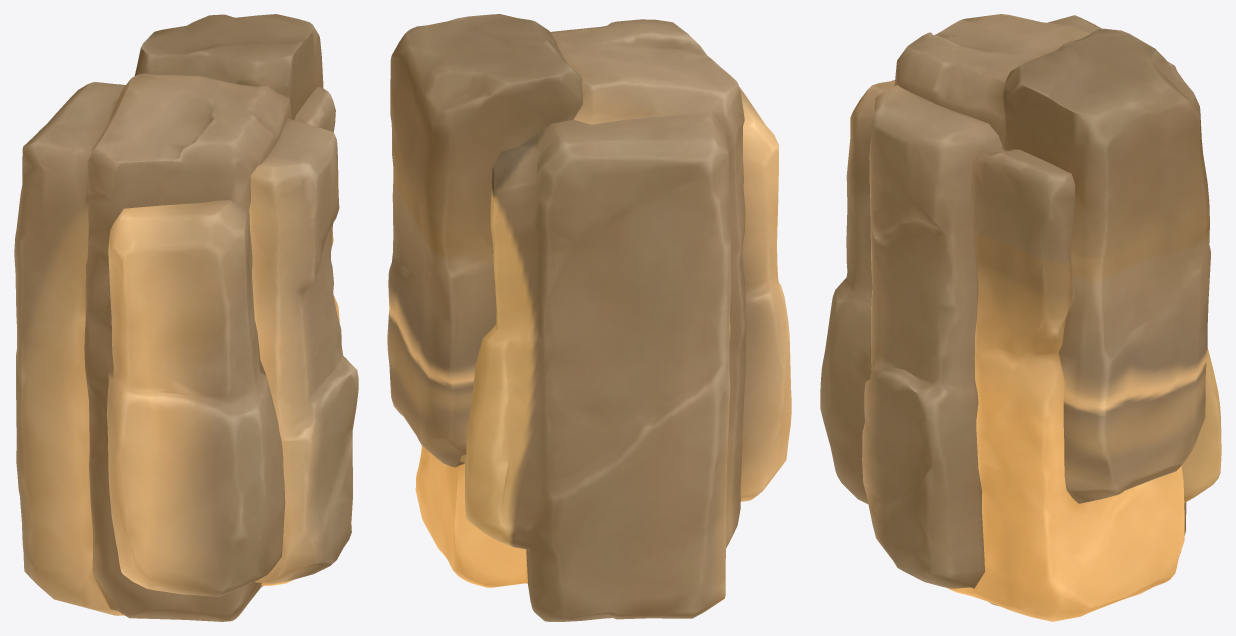
Rendered from SM_Vertical_Cliff_02.fbx.
3 views of the same model, side by side, from view 1: azimuth 30°, elevation 25°; view 2: azimuth 150°, elevation 25°; view 3: azimuth 270°, elevation 25° (orthographic). The views are drawn at different scales.
Visible parts, largest first — view 1: SM_Vertical_Cliff_02_LOD0; view 2: SM_Vertical_Cliff_02_LOD0; view 3: SM_Vertical_Cliff_02_LOD0.
Part boxes in pixels (x1,y1,x2,y2): SM_Vertical_Cliff_02_LOD0: [14, 14, 358, 621]; SM_Vertical_Cliff_02_LOD0: [387, 14, 791, 621]; SM_Vertical_Cliff_02_LOD0: [820, 14, 1221, 621].
Bounding box in the file's own units: 214 × 221 × 333.
